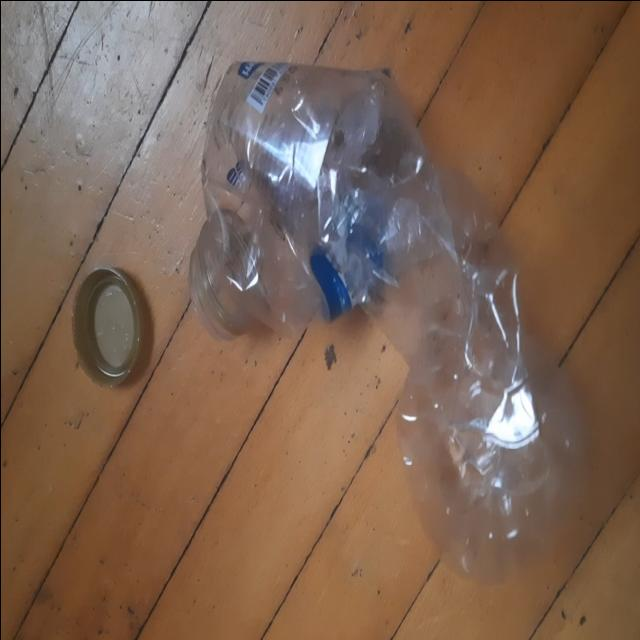Plastic: (191, 60, 564, 584), (70, 264, 152, 385)
